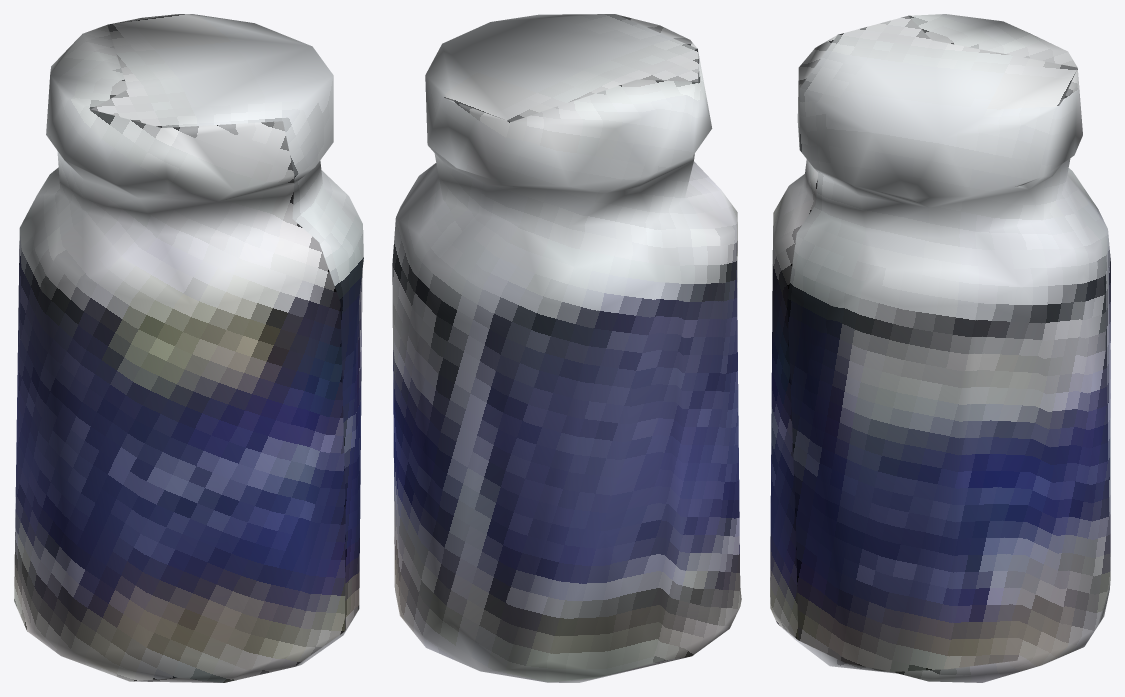
The model's file is Lactoferrin-low.glb.
3 renders of one model, left to right at view 1: azimuth 30°, elevation 25°; view 2: azimuth 150°, elevation 25°; view 3: azimuth 270°, elevation 25°, orthographic.
Visible parts, largest first — view 1: Lactoferrin; view 2: Lactoferrin; view 3: Lactoferrin.
Boxes of the visible parts, bbox=[...] form: Lactoferrin: bbox=[14, 14, 363, 682]; Lactoferrin: bbox=[392, 14, 741, 682]; Lactoferrin: bbox=[770, 14, 1110, 682].
Size of the model in its own units: 0.0569 by 0.0993 by 0.0556.
Materials: 1 (1 with a texture image).
